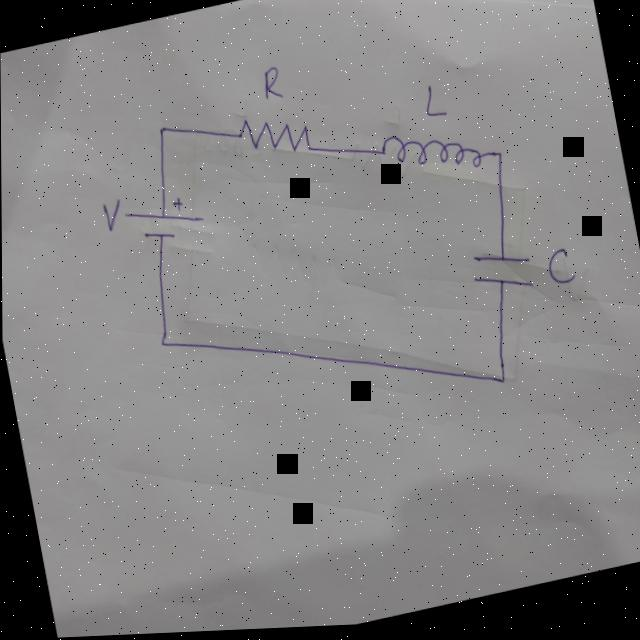capacitor: (466, 244, 534, 305)
inductor: (376, 116, 491, 191)
junction: (493, 374, 507, 391), (155, 334, 168, 351), (155, 122, 167, 138), (492, 150, 502, 165)
resistor: (232, 105, 311, 168)
source: (121, 191, 205, 248)
text: (542, 247, 576, 294), (418, 83, 447, 124), (256, 65, 283, 105), (98, 196, 124, 234)
